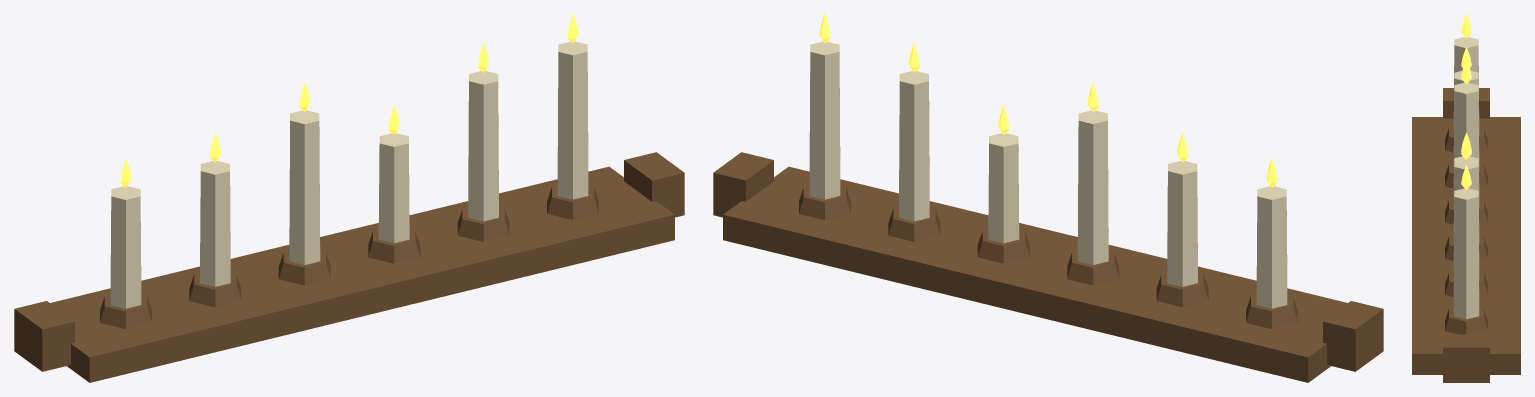
Rendered from Prop_YTM_LessonCandles_LOD1.glb.
3 views of the same model, side by side, from view 1: azimuth 30°, elevation 25°; view 2: azimuth 150°, elevation 25°; view 3: azimuth 270°, elevation 25° (orthographic). The views are drawn at different scales.
Visible parts, largest first — view 1: Prop_YTM_LessonCandles; view 2: Prop_YTM_LessonCandles; view 3: Prop_YTM_LessonCandles.
Part boxes in pixels (x1,y1,x2,y2): Prop_YTM_LessonCandles: (14, 14, 684, 382); Prop_YTM_LessonCandles: (713, 14, 1383, 382); Prop_YTM_LessonCandles: (1412, 14, 1520, 382).
Bounding box in the file's own units: 0.79 × 0.2572 × 0.14.
